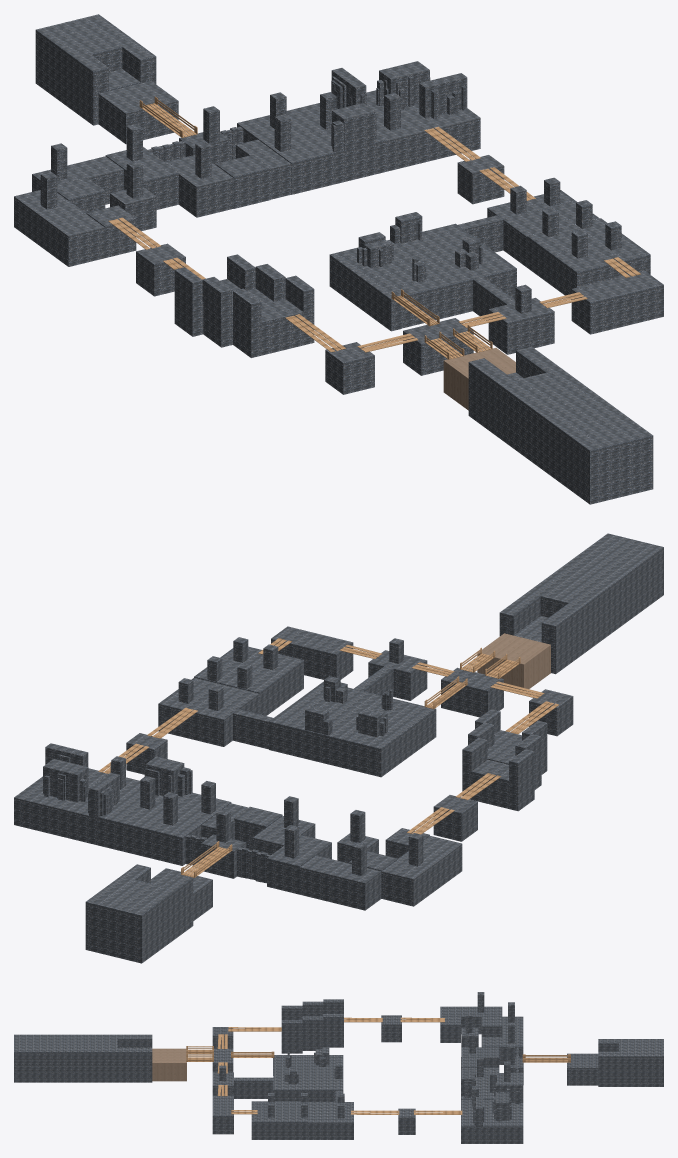
Rendered from DreadWorksLevel2Walls.obj.
3 views of the same model, one above another, from view 1: azimuth 30°, elevation 25°; view 2: azimuth 150°, elevation 25°; view 3: azimuth 270°, elevation 25° (orthographic). The views are drawn at different scales.
Bounding box in the file's own units: 40.95 × 5.7 × 93.95.
Materials: 4 (4 with a texture image).
